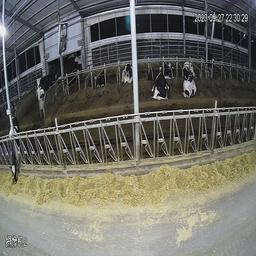cow: (5, 104, 27, 182), (143, 58, 172, 106), (34, 66, 61, 108), (181, 63, 203, 103), (203, 44, 219, 83), (89, 66, 107, 98), (119, 57, 133, 89), (163, 52, 176, 79)
